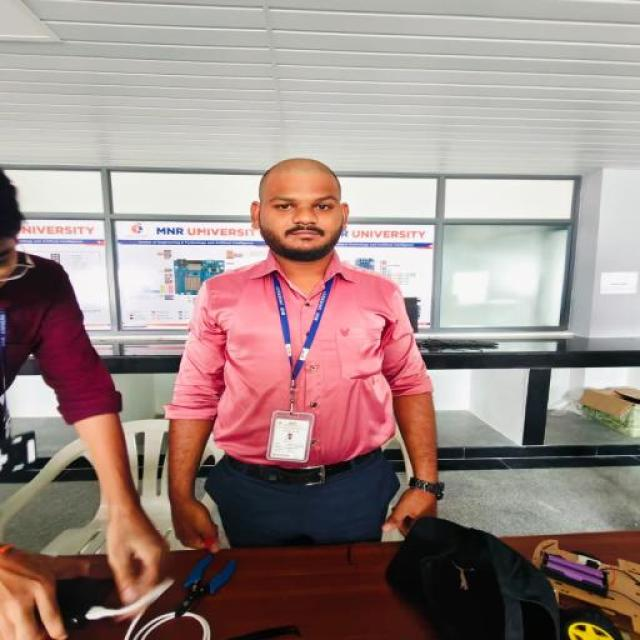Card: (267, 412, 314, 462)
Id strap: (273, 273, 333, 384)
